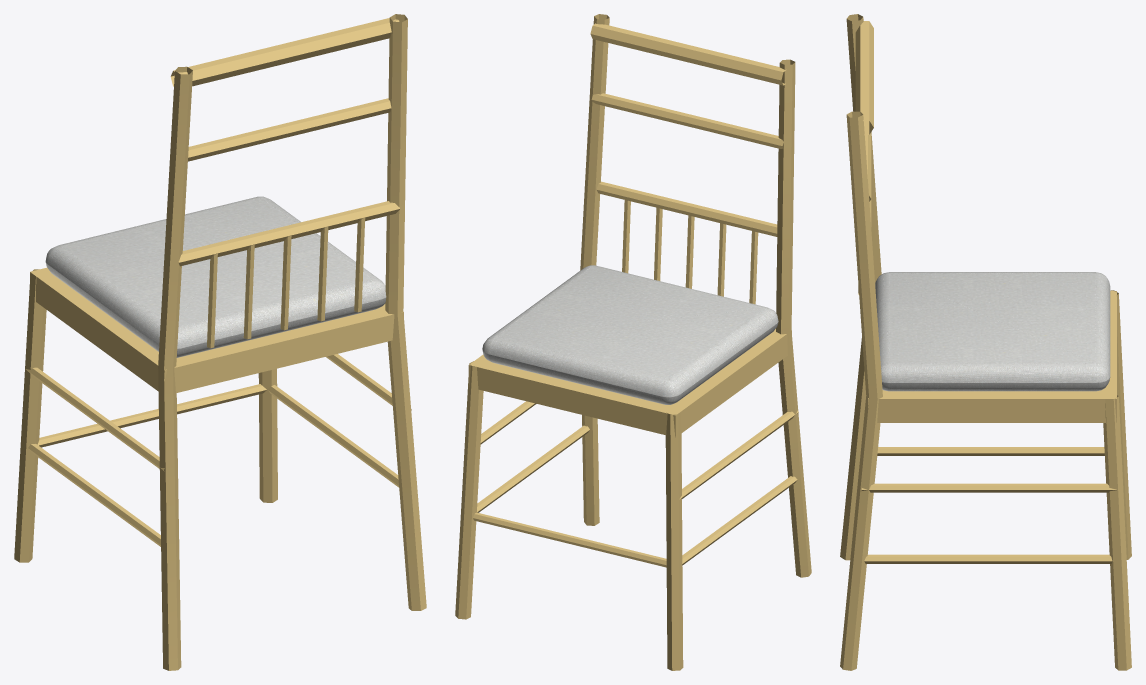
Rendered from chair_chiavari.gltf.
The picture shows the model from 3 angles, left to right: view 1: azimuth 30°, elevation 25°; view 2: azimuth 150°, elevation 25°; view 3: azimuth 270°, elevation 25°; orthographic projection. The views are drawn at different scales.
Visible parts, largest first — view 1: chair_chiavari; view 2: chair_chiavari; view 3: chair_chiavari.
Part boxes in pixels (box(x1,y1,x2,y2)): chair_chiavari: box(14, 14, 426, 670); chair_chiavari: box(455, 14, 811, 670); chair_chiavari: box(840, 14, 1131, 670).
Bounding box in the file's own units: 0.4243 × 0.9219 × 0.4457.
2 materials, 1 textured.
